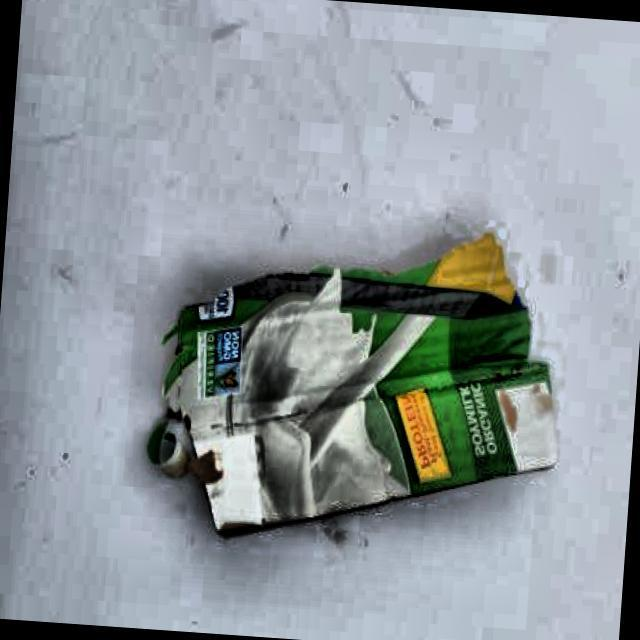cardboard: (144, 206, 574, 559)
